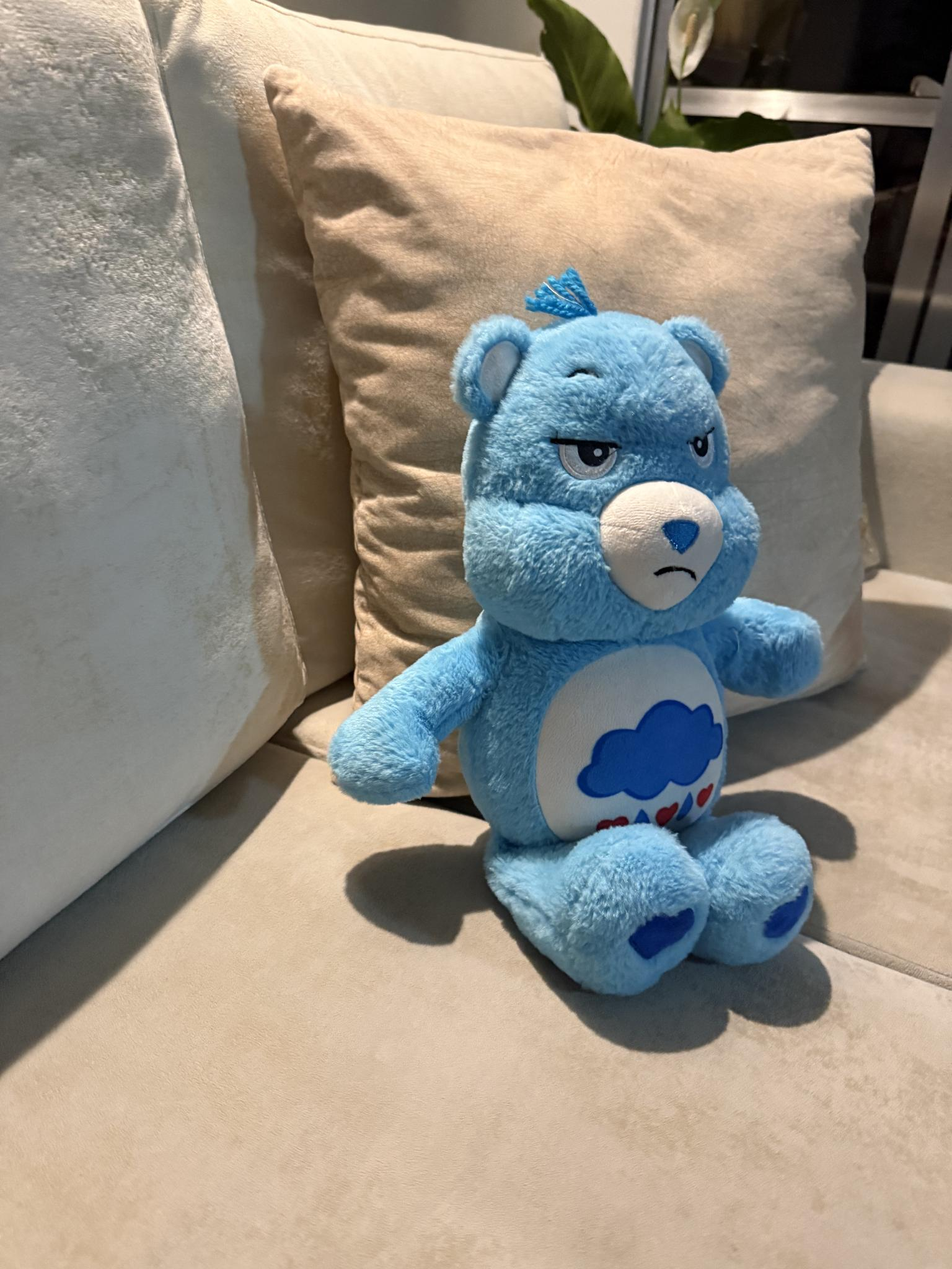peluche_Juan Jose: (327, 293, 833, 1002)
